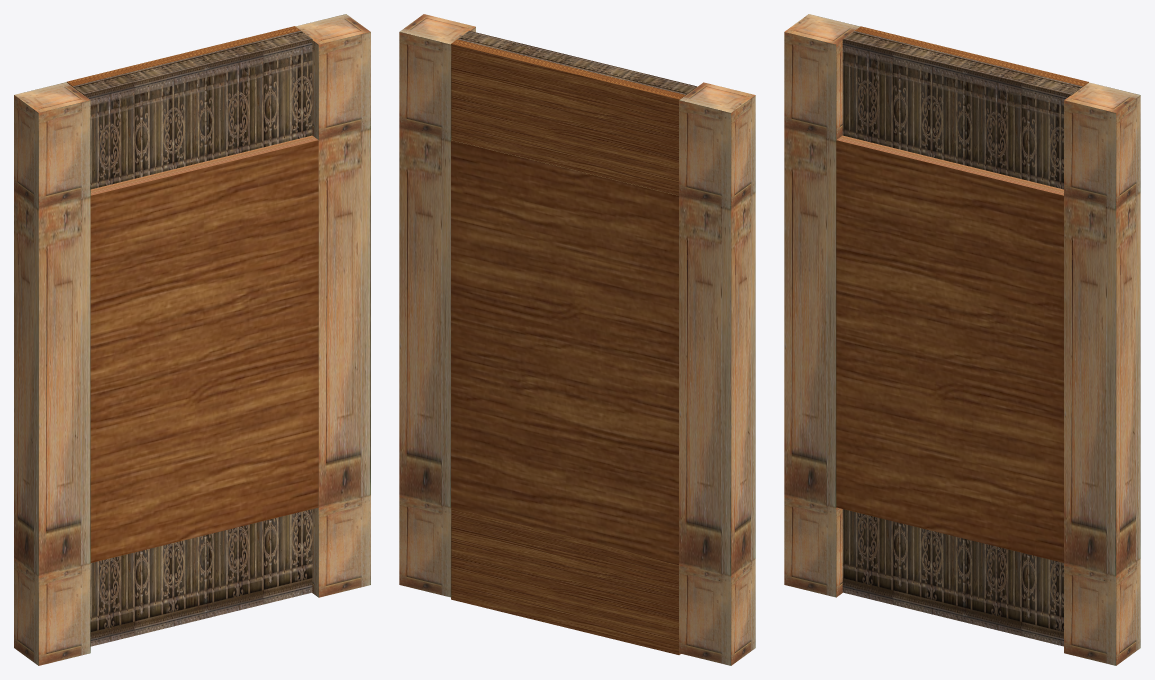
File: wood_wall_no_windows.fbx
The picture shows the model from 3 angles, left to right: view 1: azimuth 30°, elevation 25°; view 2: azimuth 150°, elevation 25°; view 3: azimuth 330°, elevation 25°; orthographic projection.
Parts seen in each view (by area): view 1: wood_wall.005, wood_wall.014, Cube.018, Cube.019, Cube.017, Cube.021; view 2: wood_wall.005, wood_wall.014, Cube.018, Cube.021, Cube.022, Cube.019; view 3: wood_wall.005, Cube.018, wood_wall.014, Cube.019, Cube.017, Cube.021.
Part boxes in pixels (left/top/right/bottom): wood_wall.005: left=90, top=140, right=318, bottom=562; wood_wall.014: left=14, top=82, right=318, bottom=665; Cube.018: left=295, top=14, right=370, bottom=597; Cube.019: left=72, top=30, right=312, bottom=189; Cube.017: left=90, top=509, right=312, bottom=646; Cube.021: left=66, top=26, right=300, bottom=86; wood_wall.005: left=451, top=140, right=678, bottom=562; wood_wall.014: left=451, top=82, right=755, bottom=665; Cube.018: left=399, top=14, right=475, bottom=597; Cube.021: left=451, top=39, right=685, bottom=195; Cube.022: left=451, top=507, right=680, bottom=654; Cube.019: left=457, top=30, right=697, bottom=95; wood_wall.005: left=836, top=140, right=1063, bottom=562; Cube.018: left=1064, top=82, right=1140, bottom=665; wood_wall.014: left=784, top=14, right=1063, bottom=597; Cube.019: left=842, top=31, right=1082, bottom=189; Cube.017: left=842, top=509, right=1063, bottom=646; Cube.021: left=855, top=26, right=1088, bottom=86.
Size of the model in its own units: 255 by 408 by 32.82.
Materials: 6 (6 with a texture image).
